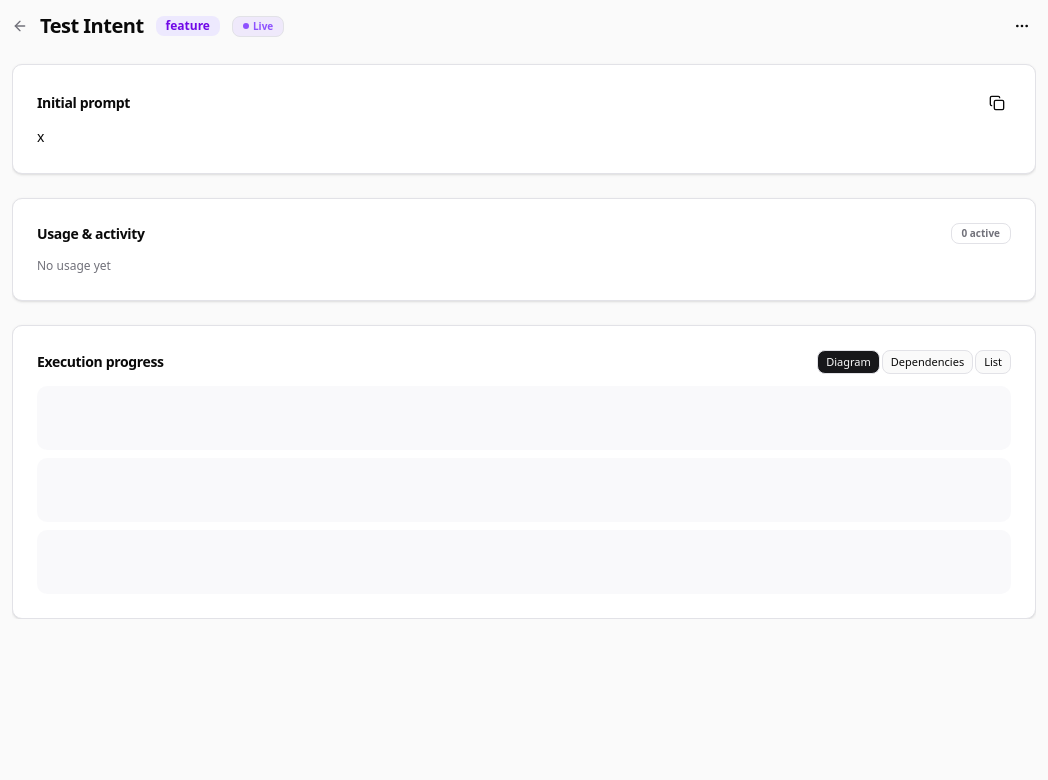
IntentObservabilityPage — Actions › shows action menu with Cancel for WAITING status
The image size is (1048, 780).
Click the button named "Intent actions" at (1022, 26), box [1008,12,1036,40]
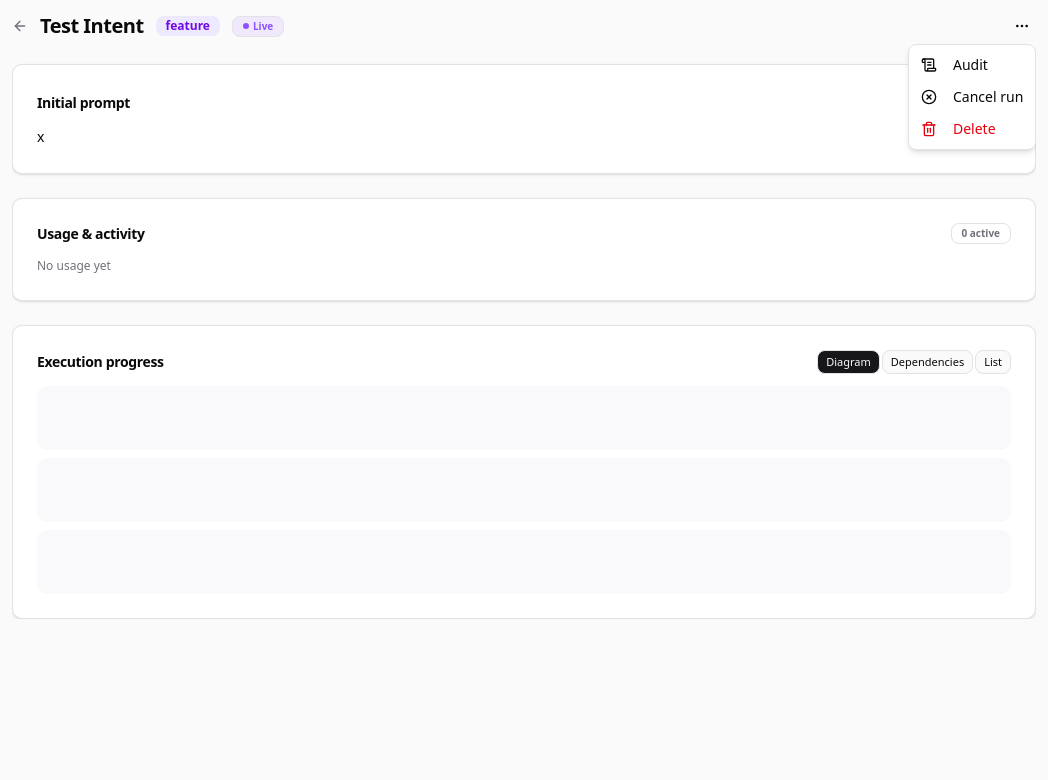
Check: the menu item "Cancel run" is shown, box [921,87,1023,106]
Check: the menu item "Delete" is shown, box [921,119,996,138]
